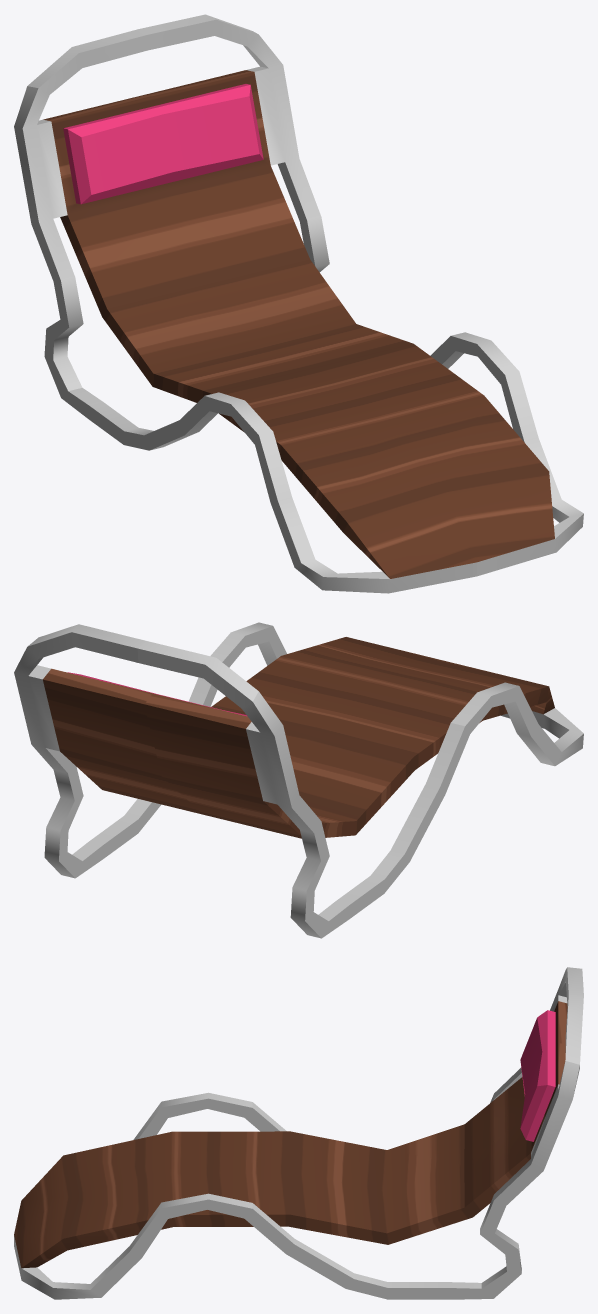
The model's file is SunChair.fbx.
3 views of the same model, one above another, from view 1: azimuth 30°, elevation 25°; view 2: azimuth 150°, elevation 25°; view 3: azimuth 270°, elevation 25° (orthographic). The views are drawn at different scales.
Parts seen in each view (by area): view 1: Solstol; view 2: Solstol; view 3: Solstol.
Part boxes in pixels (x1,y1,x2,y2): Solstol: (14,14,583,593); Solstol: (14,622,583,938); Solstol: (14,967,583,1299).
Size of the model in its own units: 2.41 by 2.65 by 5.44.
